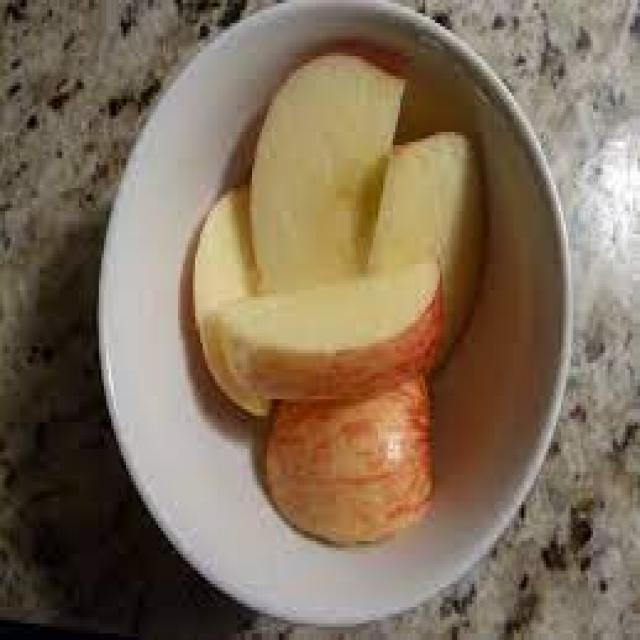Apple: (249, 45, 401, 276), (253, 375, 439, 545), (217, 260, 444, 391), (378, 132, 478, 367), (190, 181, 270, 418)
